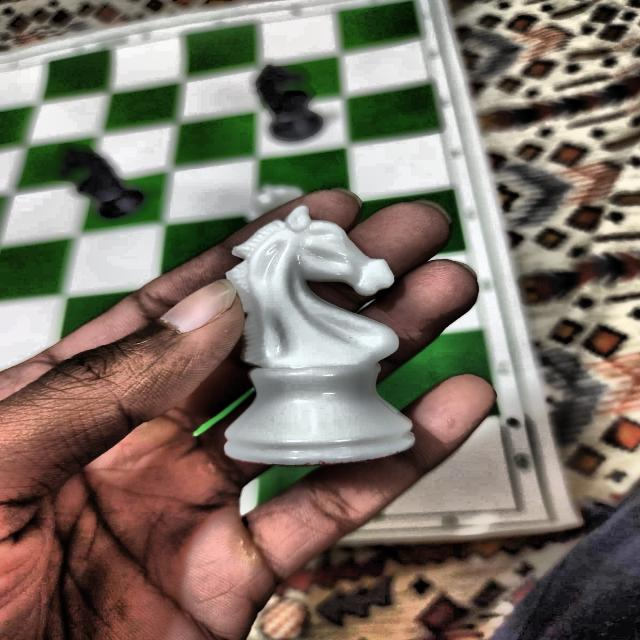WhiteKnight: (225, 205, 417, 464)
